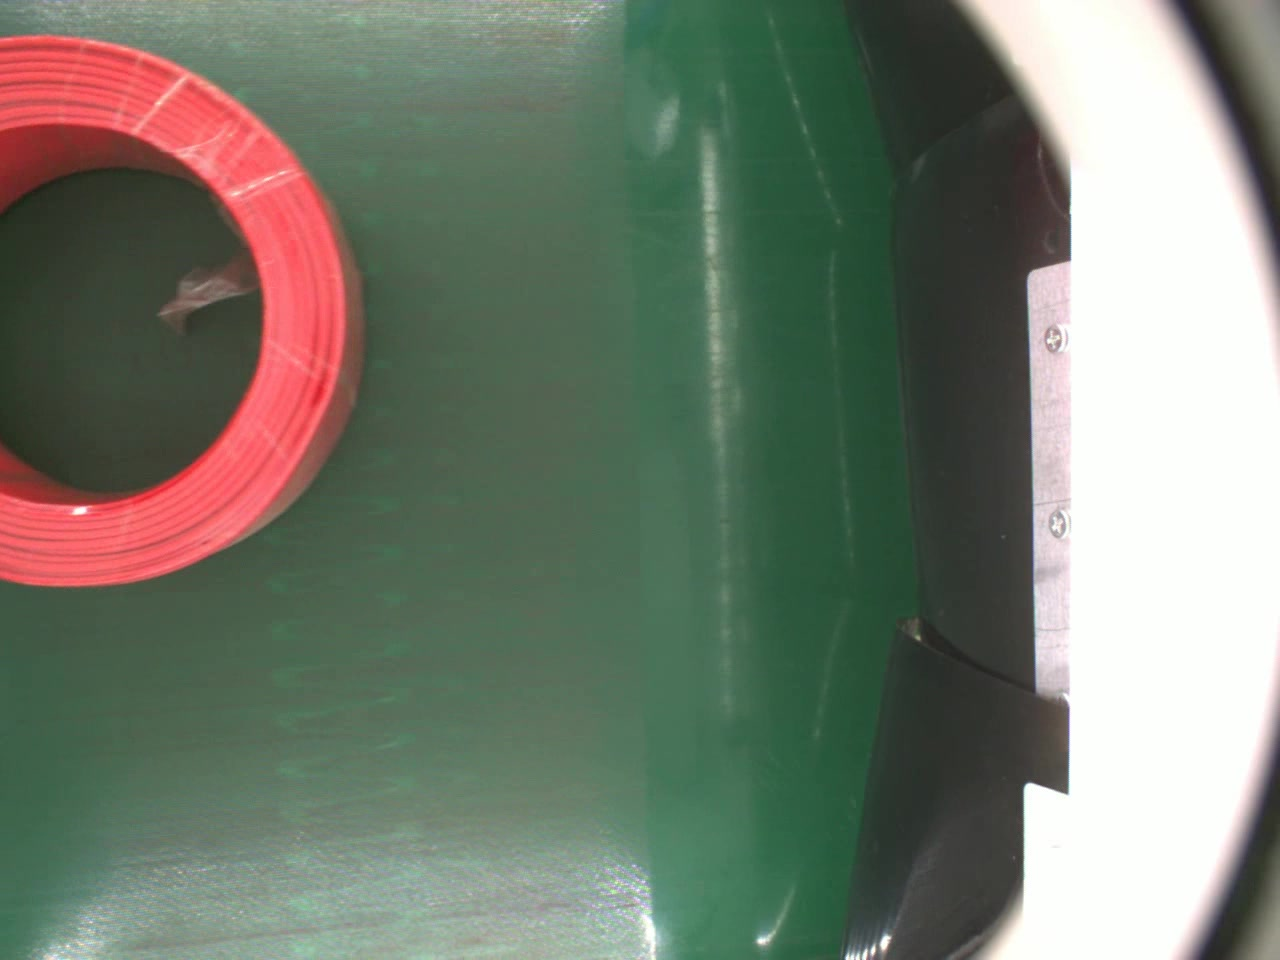red: (0, 31, 369, 592)
